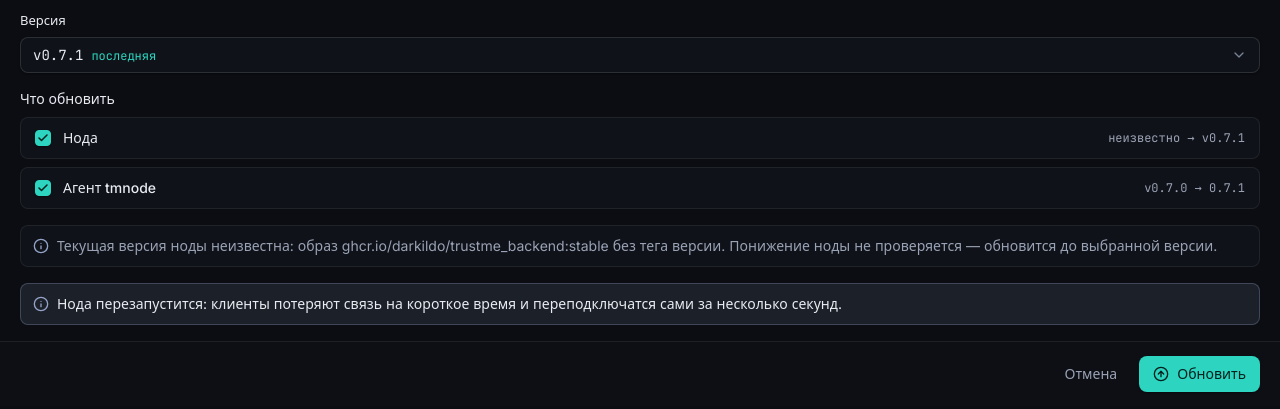
Test case: диалог обновления › версия ноды неизвестна (:stable) — пояснение, понижение не проверяется
Expected: the text "образ ghcr.io/darkildo/trustme_backend:stable без тега версии" is shown, x1=57 y1=236 x2=1217 y2=254
What coordinates should you click on to do the following:
click the dropdown named "Версия"
I would click on:
 (58, 54)
Its box is x1=20 y1=36 x2=1260 y2=72.
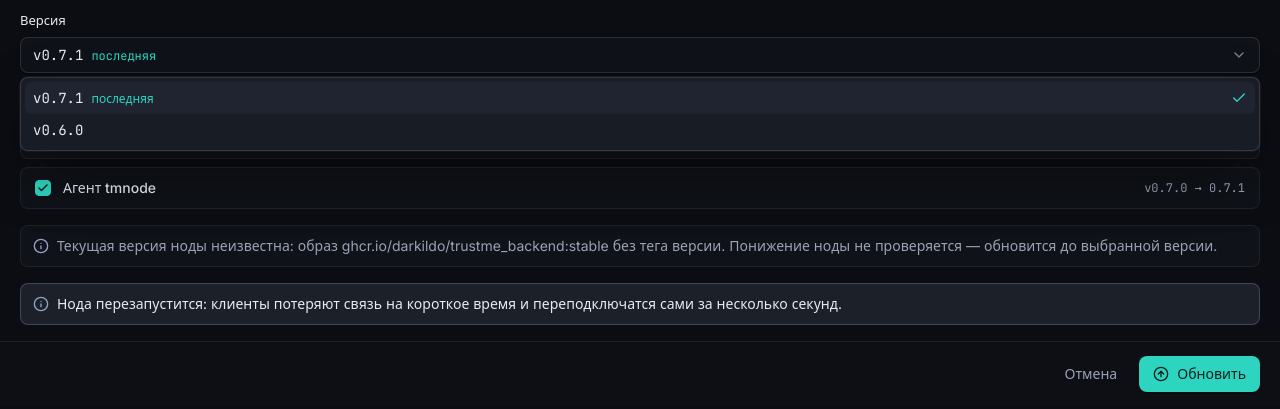
What coordinates should you click on to do the following:
click the option "v0.6.0"
I would click on:
 (58, 130)
Its box is x1=33 y1=121 x2=83 y2=139.
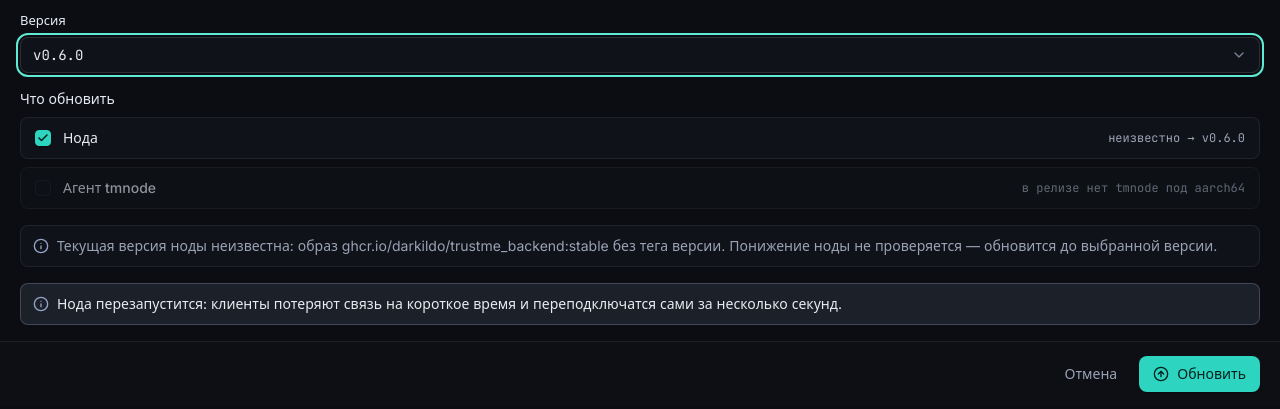
Expected: the button "Обновить" is enabled, x1=1139 y1=356 x2=1260 y2=392
What coordinates should you click on to do the following:
click the checkbox named "Нода" in the row of "неизвестно → v0.6.0"
I would click on:
 (43, 138)
Its box is x1=35 y1=130 x2=51 y2=146.
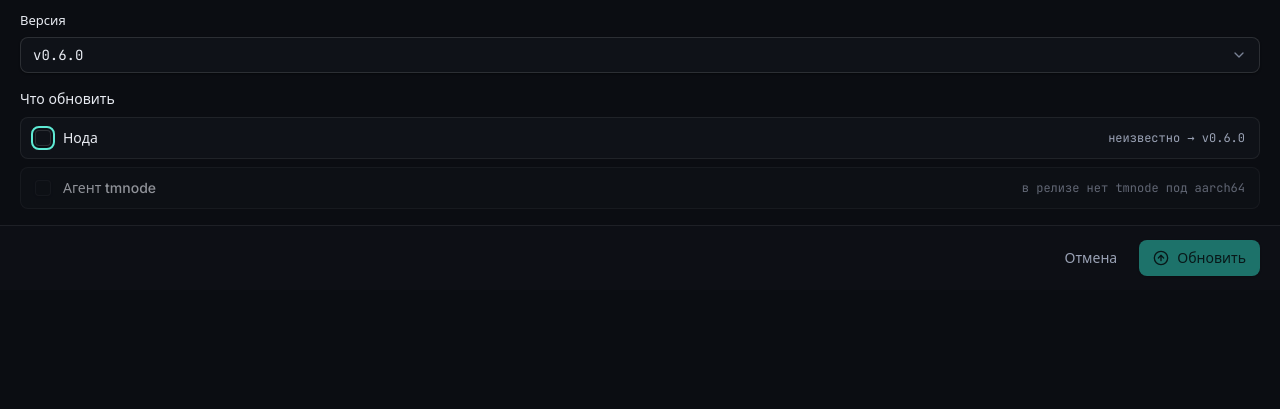
Expected: the text "без тега версии" is gone
